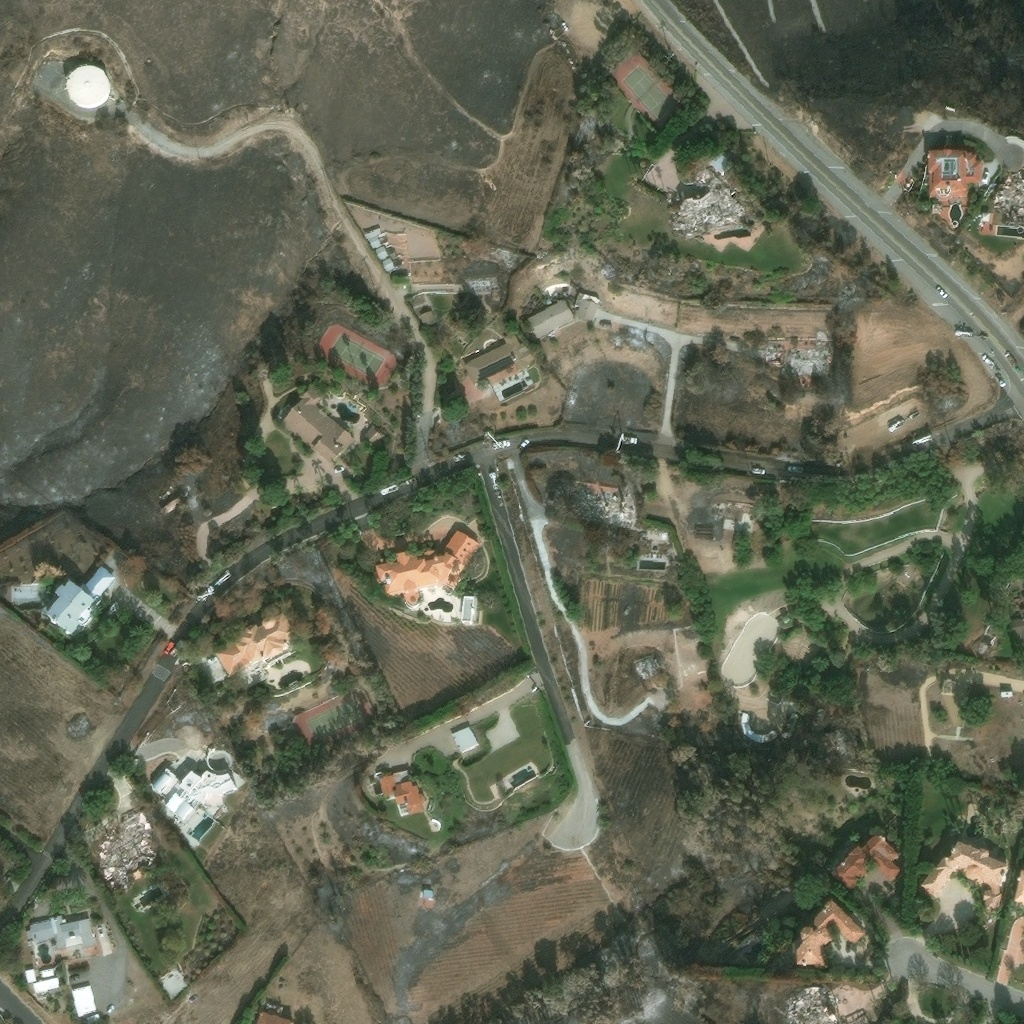0 no-damage: (375, 529, 481, 604), (280, 381, 357, 464), (153, 768, 234, 833), (211, 611, 291, 675), (792, 897, 863, 969), (43, 565, 115, 635), (919, 839, 1007, 895), (831, 830, 901, 889), (24, 913, 114, 956), (926, 148, 981, 204), (463, 343, 518, 386), (64, 61, 111, 109), (525, 297, 575, 339), (378, 773, 423, 813), (68, 985, 96, 1016), (159, 966, 187, 995), (450, 725, 479, 751), (9, 582, 40, 603), (253, 1010, 292, 1023), (575, 299, 598, 321), (361, 423, 385, 444), (362, 225, 382, 250), (31, 976, 60, 993), (418, 308, 438, 331), (1012, 867, 1023, 902), (372, 245, 389, 262), (941, 676, 956, 693), (379, 257, 395, 271), (23, 967, 35, 982), (40, 967, 53, 977), (930, 202, 940, 212), (978, 211, 989, 220), (1000, 688, 1012, 696), (422, 888, 432, 897)
1 minor-damage: (163, 490, 186, 511)
2 major-damage: (710, 500, 751, 531)
3 destroyed: (666, 162, 747, 232), (94, 807, 158, 886), (569, 480, 634, 520), (784, 982, 834, 1023), (993, 175, 1023, 223), (787, 347, 832, 372), (763, 343, 784, 373), (468, 275, 498, 293), (851, 1011, 871, 1023), (566, 388, 575, 404)
